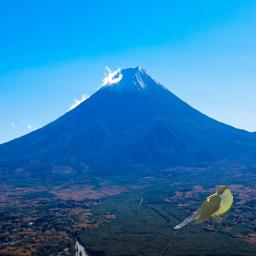Cuckoo: (173, 186, 233, 229)
